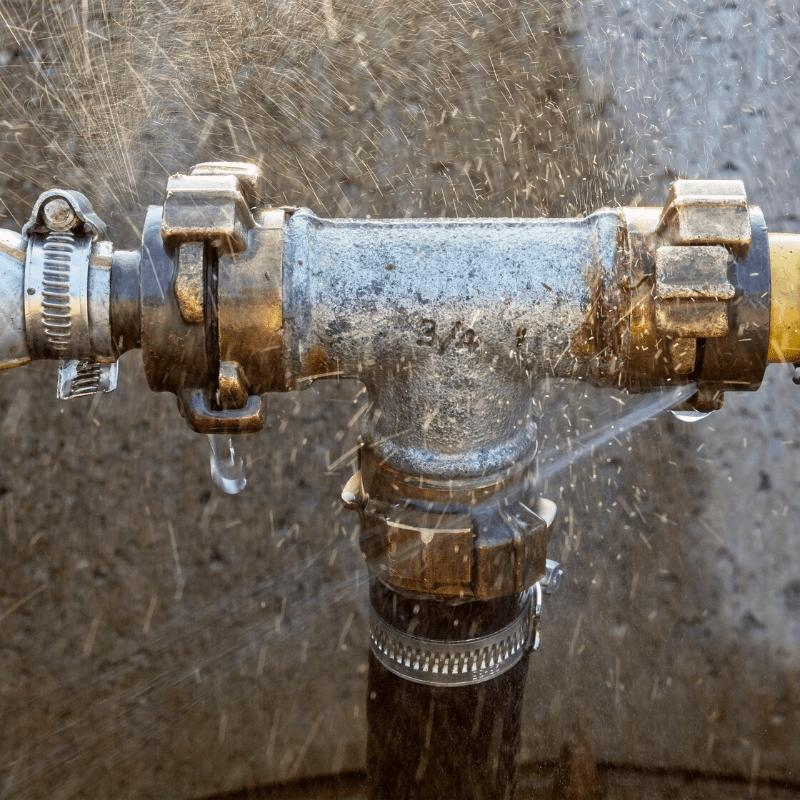pipe burst: (292, 376, 709, 651)
water drop: (207, 434, 248, 495)
